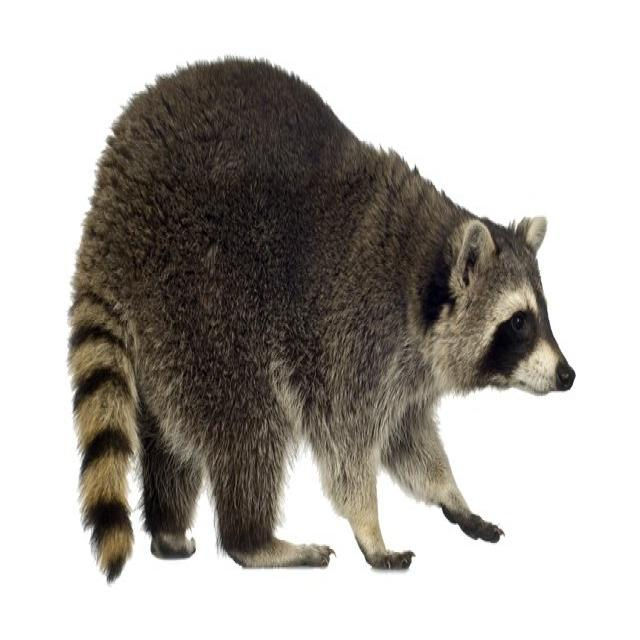Raccoon: (67, 55, 578, 593)
